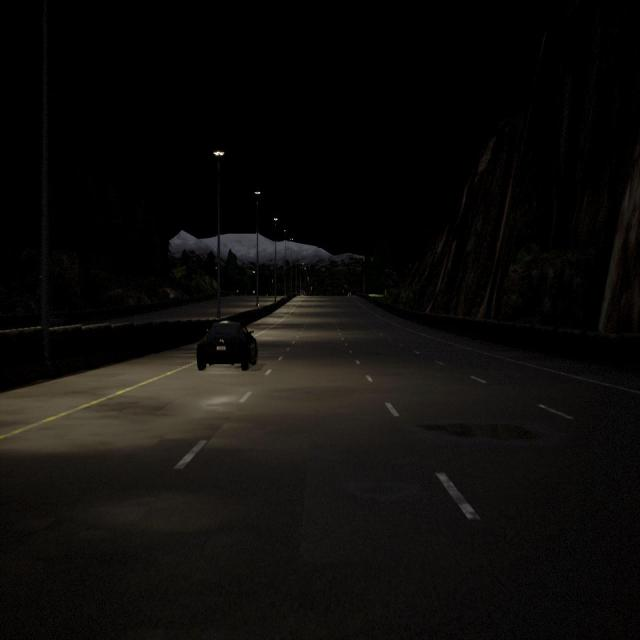Traffic_Signs: (170, 293, 174, 298)
Vehicle: (196, 321, 258, 371)
